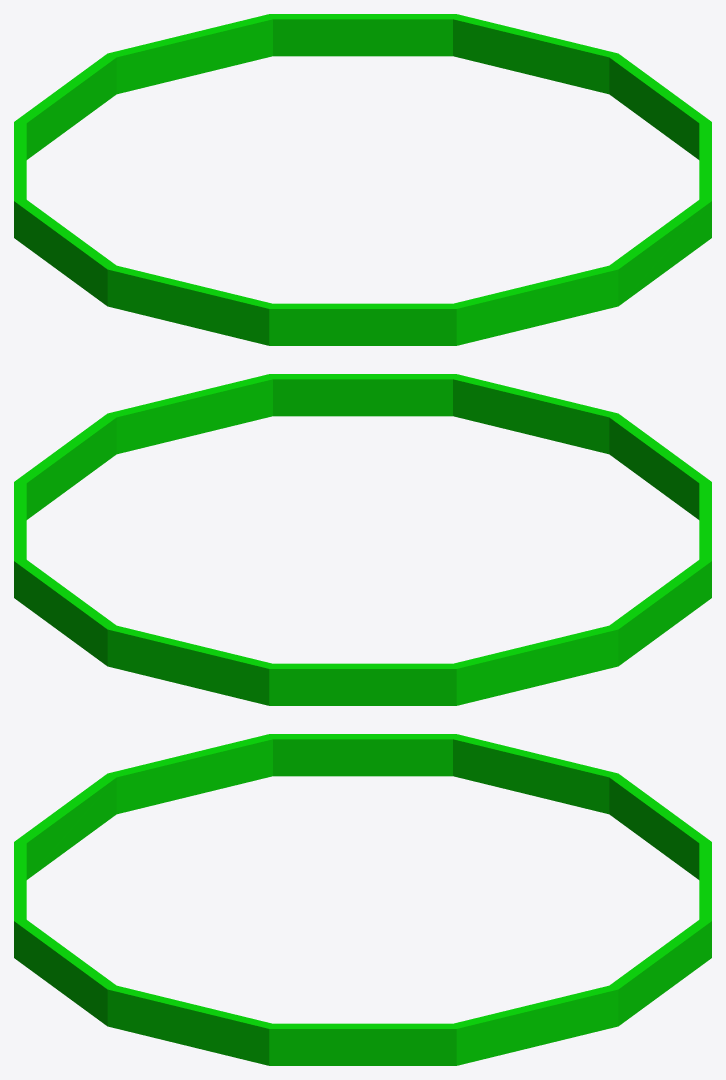
The model's file is Rotate_Y.fbx.
3 renders of one model, top to bottom at view 1: azimuth 30°, elevation 25°; view 2: azimuth 150°, elevation 25°; view 3: azimuth 270°, elevation 25°, orthographic.
Visible parts, largest first — view 1: Rotate_Y; view 2: Rotate_Y; view 3: Rotate_Y.
Boxes of the visible parts, x1,y1,x2,y2 form: Rotate_Y: (14,14,711,345); Rotate_Y: (14,374,711,705); Rotate_Y: (14,734,711,1065).
Size of the model in its own units: 1.11 by 0.0647 by 1.11.
